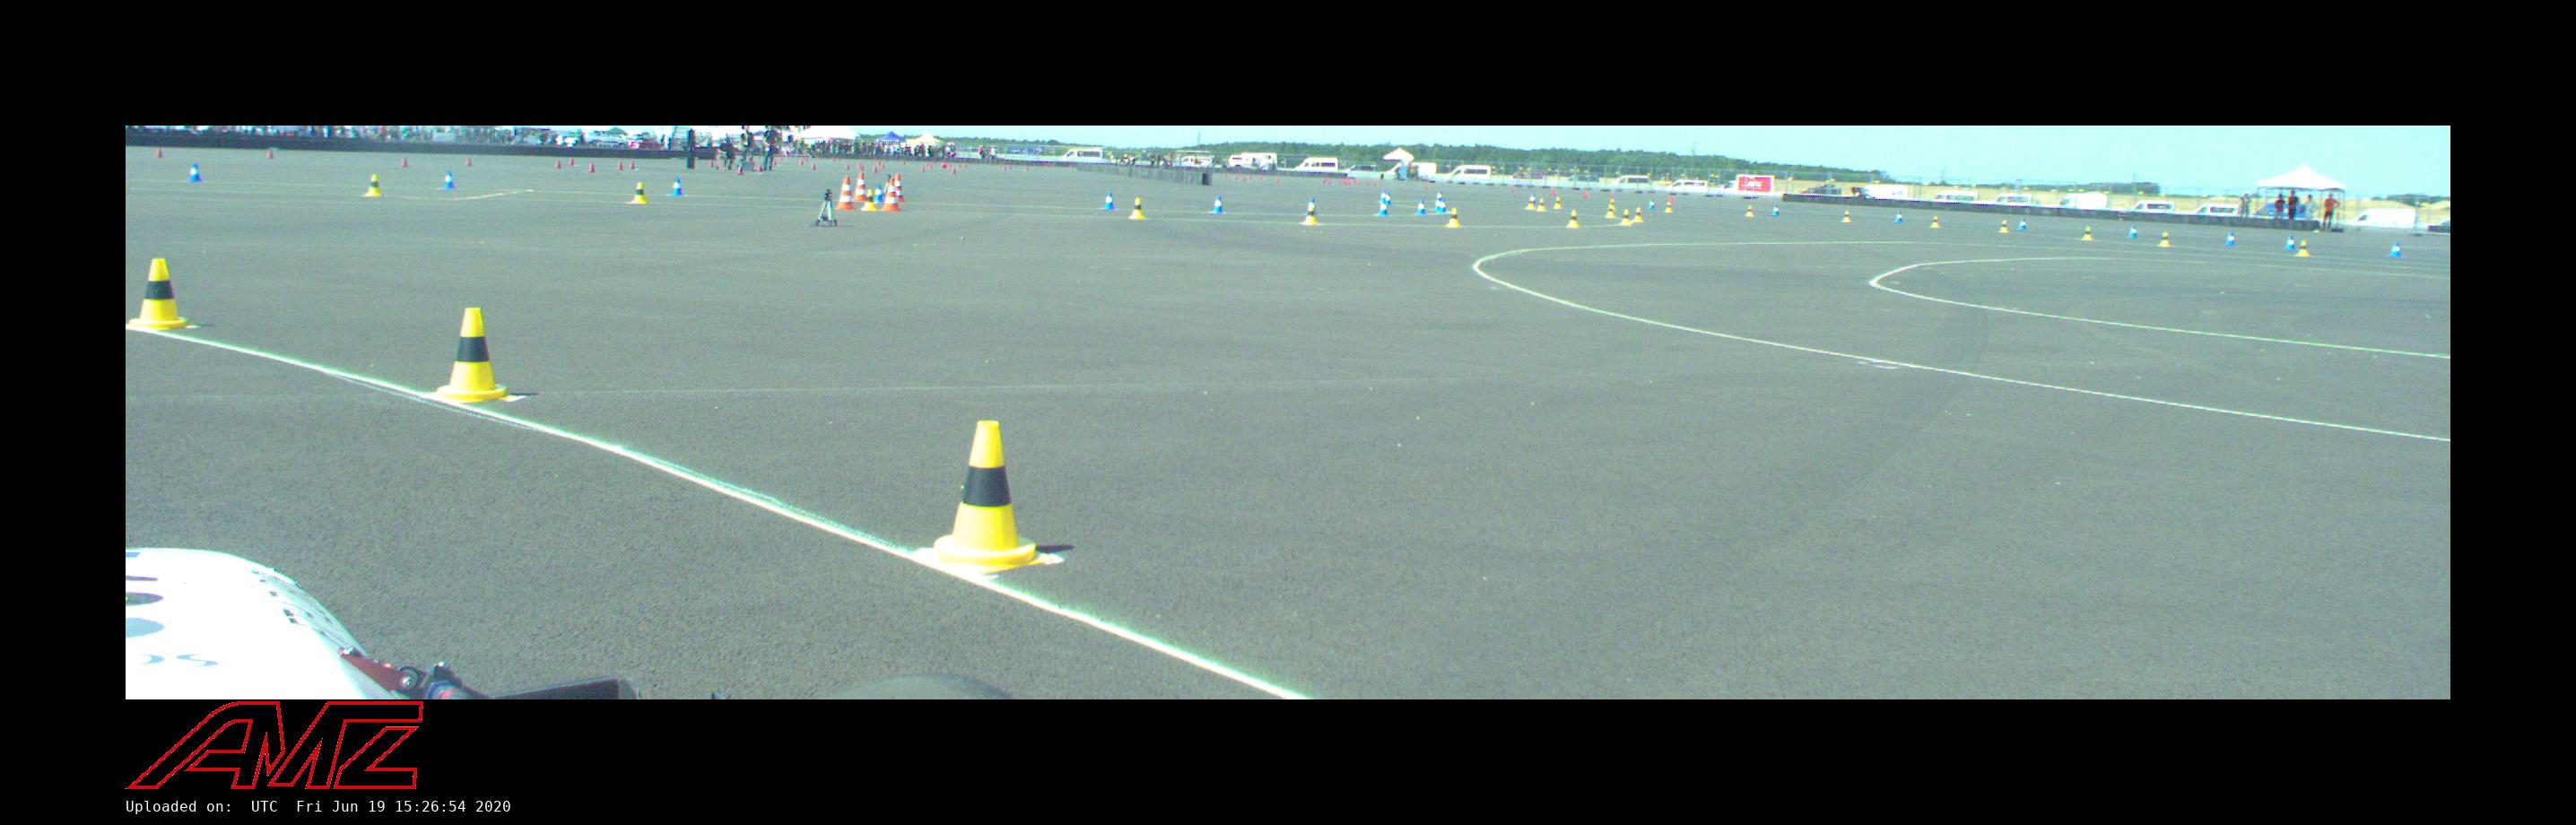blue_cone: (188, 164, 203, 182), (442, 171, 456, 189), (670, 178, 683, 195), (1103, 192, 1115, 209), (1213, 196, 1223, 213), (1379, 199, 1388, 215), (1415, 199, 1425, 214), (2284, 236, 2295, 249), (2390, 243, 2401, 256), (875, 185, 883, 201), (1438, 197, 1446, 213), (2226, 233, 2235, 246), (2129, 226, 2137, 238), (1895, 212, 1902, 222), (2019, 219, 2026, 230), (1772, 205, 1780, 215), (1386, 192, 1391, 204), (1649, 199, 1655, 209)
large_orange_cone: (881, 178, 901, 211), (837, 177, 856, 209), (853, 174, 866, 201), (896, 174, 906, 203)
unknown_cone: (155, 146, 162, 158), (587, 162, 596, 172), (736, 165, 744, 175), (266, 149, 274, 158), (401, 157, 408, 166), (554, 160, 561, 169), (568, 158, 575, 165), (466, 157, 472, 165), (618, 161, 623, 169), (630, 161, 635, 168), (811, 162, 816, 169)
yellow_cone: (924, 420, 1051, 577), (431, 307, 515, 404), (127, 257, 197, 331), (631, 182, 648, 203), (367, 175, 382, 195), (862, 189, 876, 210), (1130, 198, 1144, 218), (1303, 205, 1317, 224), (1448, 208, 1460, 226), (2298, 240, 2310, 256), (1569, 211, 1578, 227), (1633, 208, 1642, 221), (2160, 232, 2169, 246), (1623, 210, 1630, 225), (2083, 228, 2092, 239), (1537, 198, 1545, 210), (1527, 198, 1535, 209), (2000, 221, 2008, 231), (1606, 204, 1614, 216), (1554, 197, 1562, 208), (1843, 211, 1850, 221), (1932, 216, 1939, 227), (1665, 203, 1672, 212), (1746, 206, 1754, 215)
